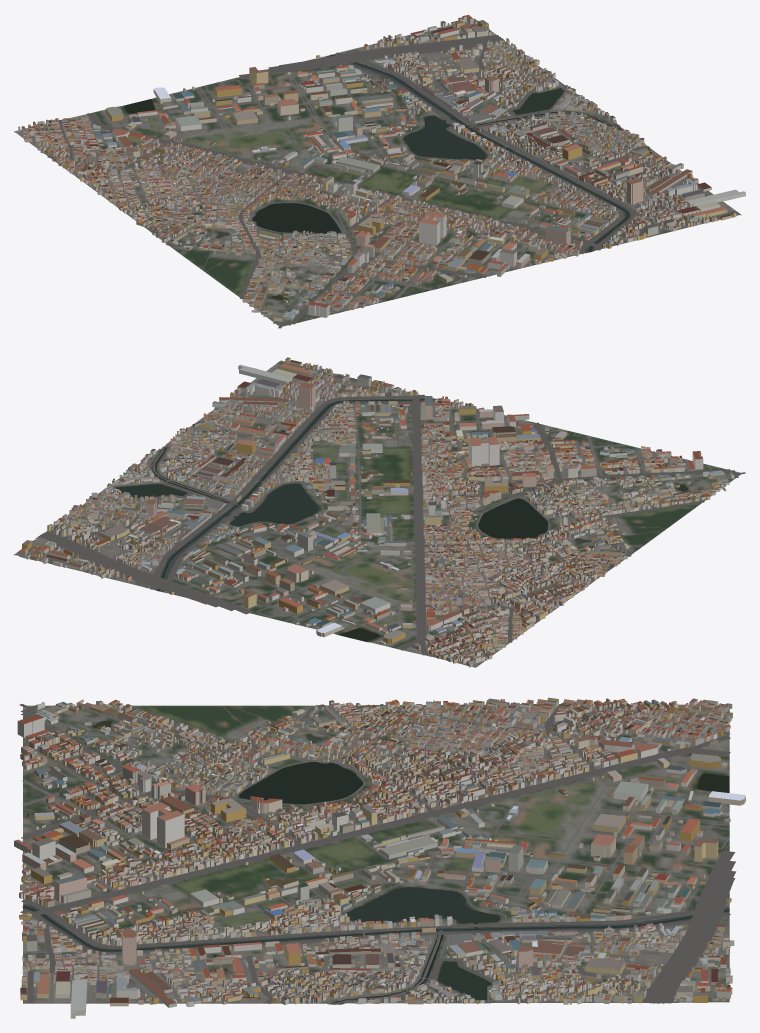
3 views of the same model, one above another, from view 1: azimuth 30°, elevation 25°; view 2: azimuth 150°, elevation 25°; view 3: azimuth 270°, elevation 25° (orthographic). The views are drawn at different scales.
Visible parts, largest first — view 1: walls, roofs, ground, roads, water; view 2: walls, roofs, ground, roads, water; view 3: walls, roofs, ground, roads, water.
Part boxes in pixels (x1,y1,x2,y2): walls: [18, 16, 745, 321]; roofs: [18, 14, 745, 318]; ground: [14, 19, 741, 326]; roads: [25, 24, 738, 328]; water: [124, 54, 630, 299]; walls: [17, 358, 734, 667]; roofs: [18, 357, 732, 663]; ground: [14, 360, 742, 667]; roads: [16, 361, 745, 664]; water: [115, 398, 688, 641]; walls: [14, 698, 745, 1018]; roofs: [14, 697, 745, 1013]; ground: [23, 704, 729, 1004]; roads: [19, 704, 736, 1003]; water: [22, 721, 729, 1004].
Size of the model in its own units: 1488 by 65.17 by 1453.
